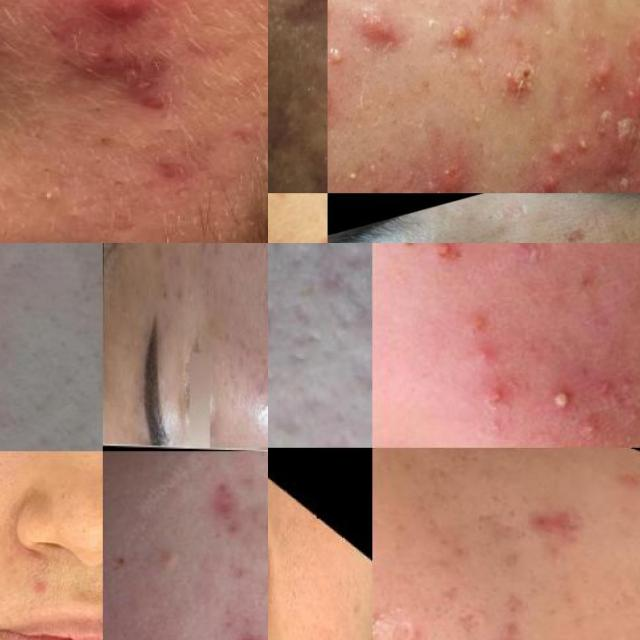acne_scars: (509, 481, 592, 559), (302, 243, 372, 317), (337, 320, 372, 403), (268, 279, 295, 346), (309, 619, 330, 640)
comedone: (463, 370, 523, 432), (569, 356, 630, 416), (564, 405, 614, 448), (500, 243, 555, 279), (333, 153, 379, 193), (610, 389, 640, 436), (32, 182, 70, 214), (346, 584, 368, 638), (82, 130, 130, 153), (101, 168, 127, 198), (380, 0, 426, 13), (118, 296, 133, 330), (184, 278, 198, 314), (388, 179, 420, 193)
cystic: (79, 0, 160, 38)
papule: (391, 94, 500, 193), (453, 321, 520, 378), (485, 0, 559, 31), (205, 479, 245, 535), (532, 161, 572, 193)
pustule: (427, 0, 495, 76), (529, 368, 588, 430), (328, 25, 365, 90), (328, 64, 351, 137), (417, 243, 480, 267), (372, 243, 407, 254)
sebo-crystan-conglo: (541, 16, 640, 184), (346, 0, 425, 84), (482, 38, 556, 126), (411, 155, 492, 193), (597, 124, 640, 193), (462, 623, 541, 640)
